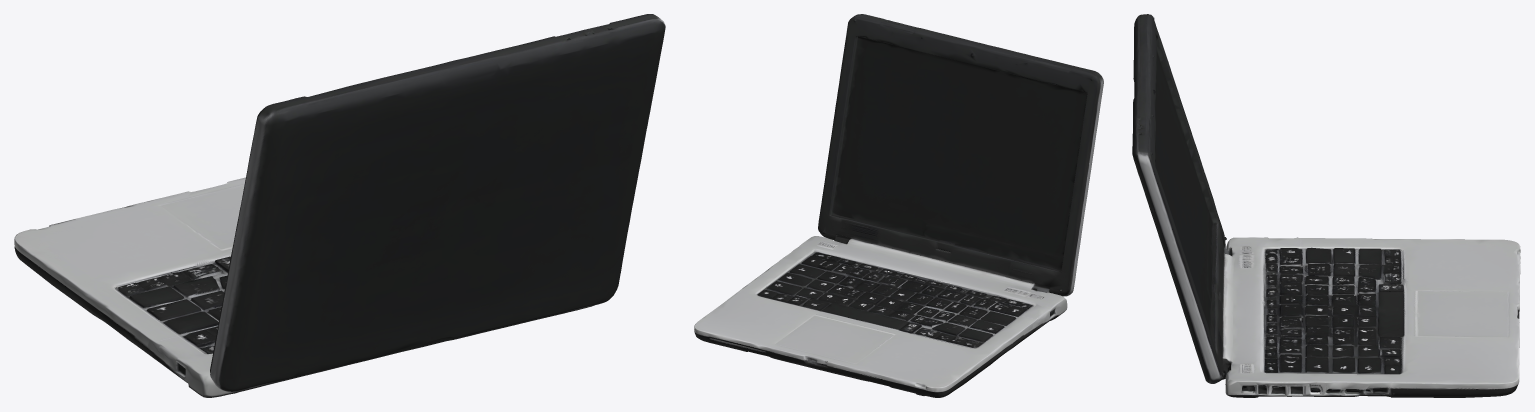
File: laptop.glb
3 renders of one model, left to right at view 1: azimuth 30°, elevation 25°; view 2: azimuth 150°, elevation 25°; view 3: azimuth 270°, elevation 25°, orthographic. The views are drawn at different scales.
Parts seen in each view (by area): view 1: tripo_node_01a217dc-51e9-75c9-983e-d89ff20dbf54; view 2: tripo_node_01a217dc-51e9-75c9-983e-d89ff20dbf54; view 3: tripo_node_01a217dc-51e9-75c9-983e-d89ff20dbf54.
Boxes of the visible parts, box(x1,y1,x2,y2) form: tripo_node_01a217dc-51e9-75c9-983e-d89ff20dbf54: box(14, 14, 665, 397); tripo_node_01a217dc-51e9-75c9-983e-d89ff20dbf54: box(694, 14, 1103, 397); tripo_node_01a217dc-51e9-75c9-983e-d89ff20dbf54: box(1132, 14, 1520, 397).
Size of the model in its own units: 0.882 by 0.7125 by 1.
1 material, 1 textured.
